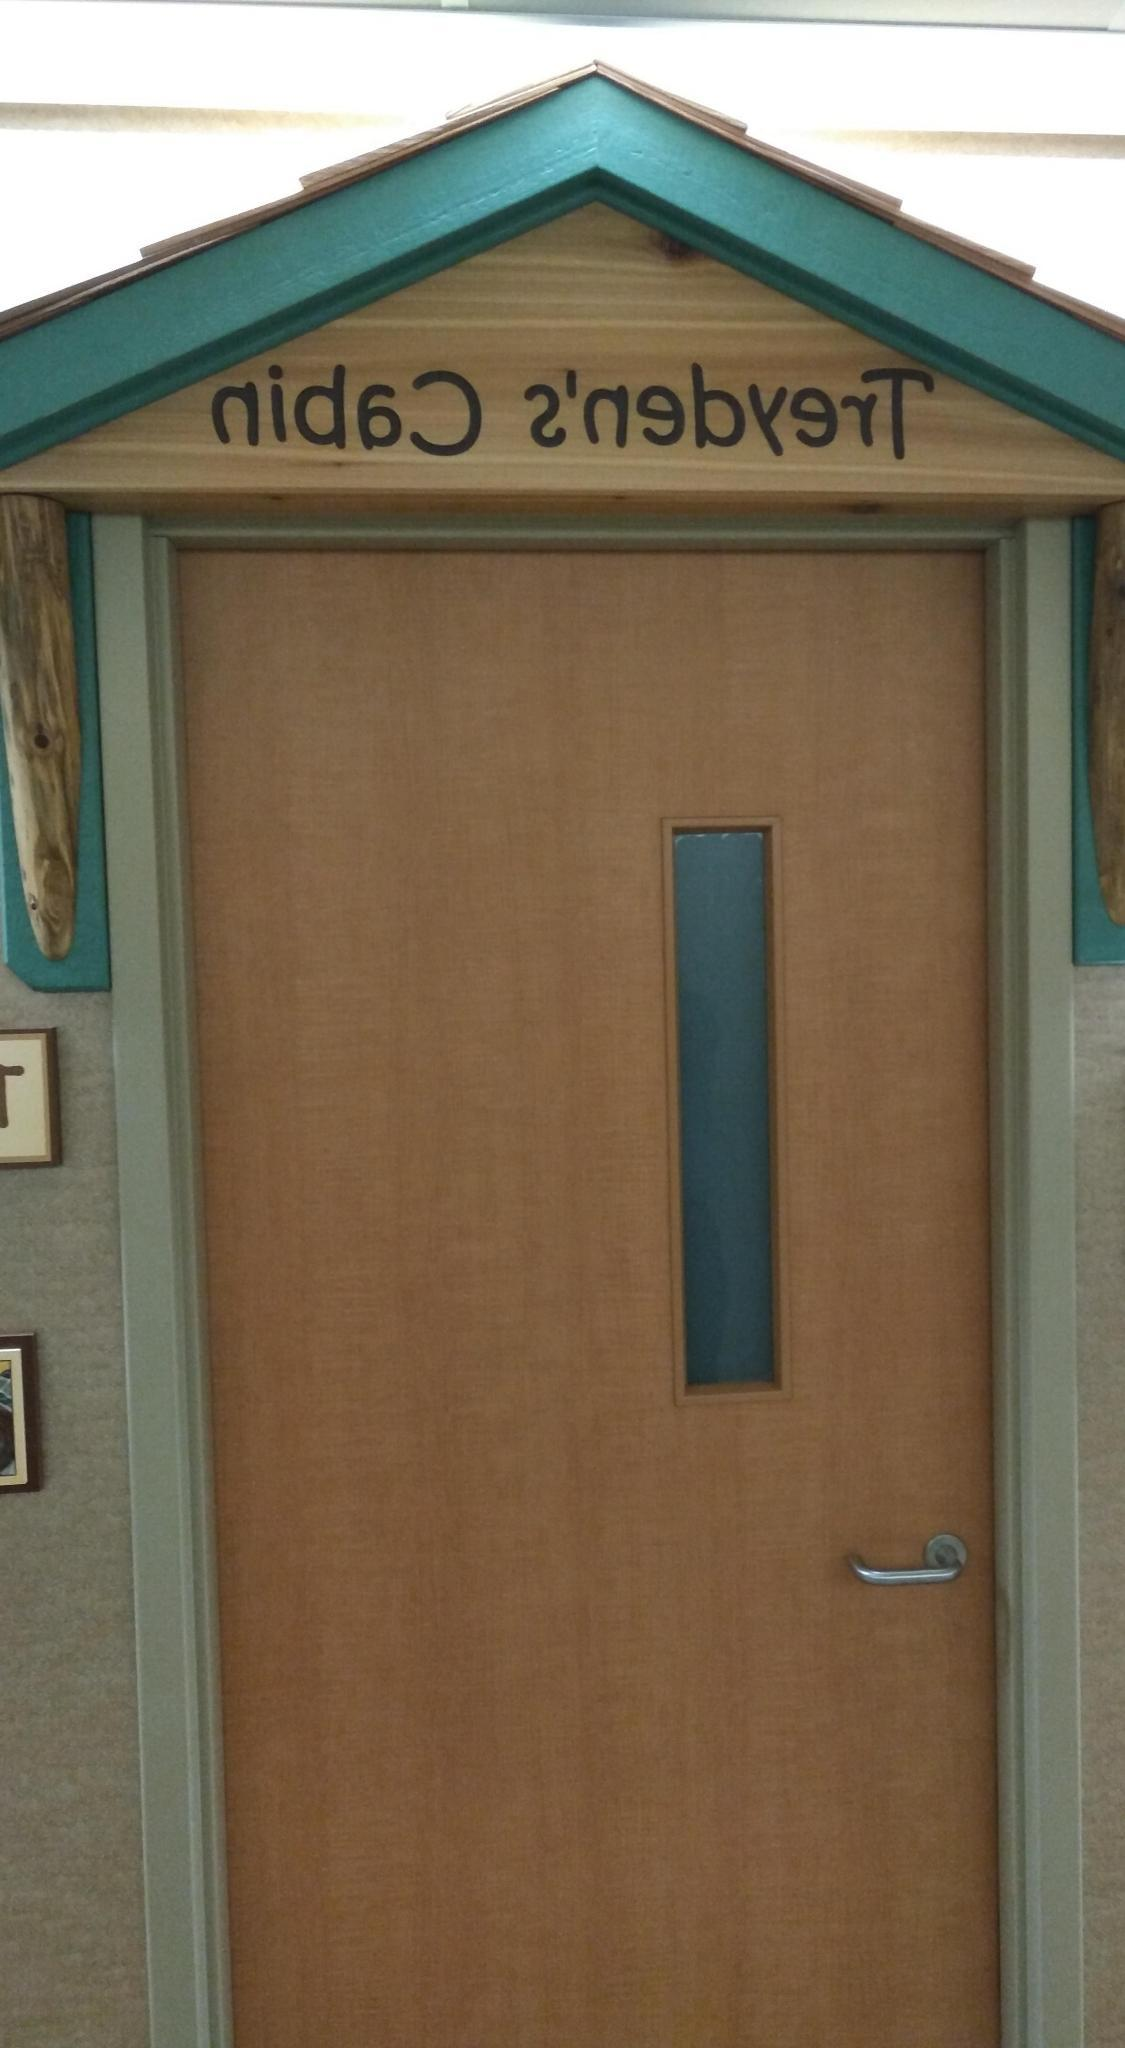door: (241, 540, 989, 2048)
handle: (848, 1519, 970, 1608)
